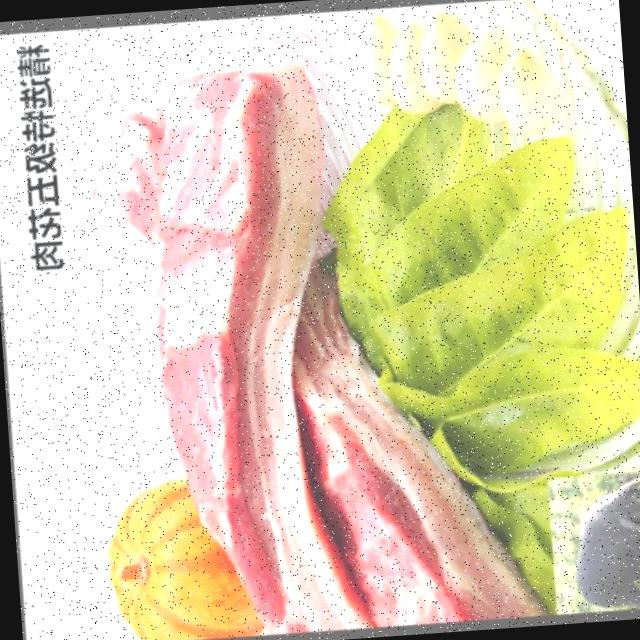pork: (82, 64, 533, 640)
